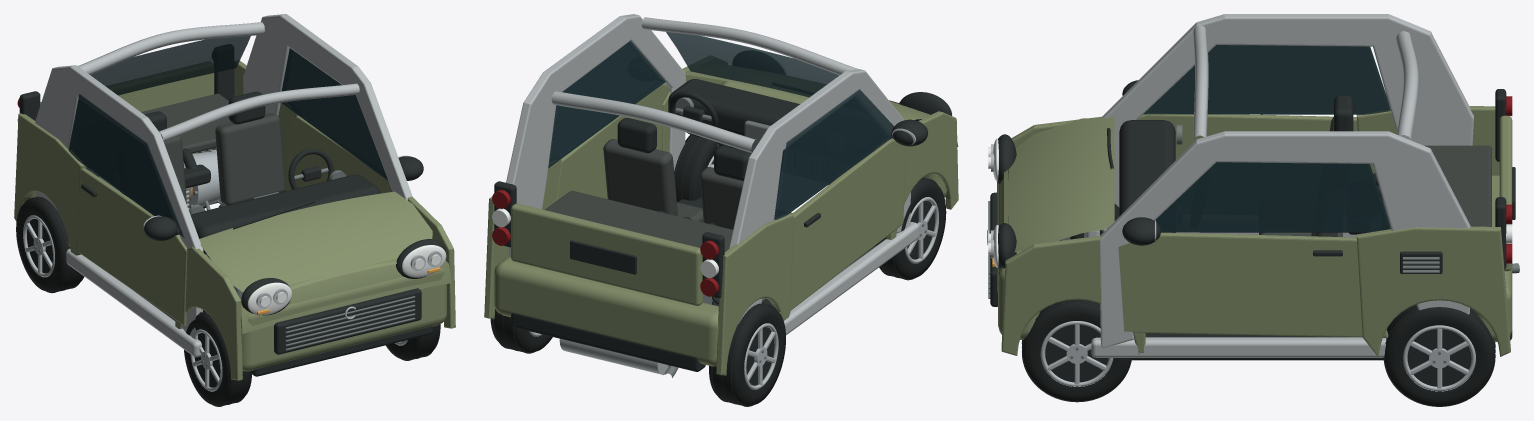
Rendered from educational-v1.glb.
3 renders of one model, left to right at view 1: azimuth 30°, elevation 25°; view 2: azimuth 150°, elevation 25°; view 3: azimuth 270°, elevation 25°, orthographic. The views are drawn at different scales.
Parts seen in each view (by area): view 1: service-panel--0, door-right--0, safety-cell--2, safety-cell--0, window-right--0, front-bumper--0, quarter-right--0, seat-left--1, rear-glass--0, window-left--0, dashboard--0, fender-right--0 (+31 smaller); view 2: rear-bumper--0, door-right--0, tailgate--0, safety-cell--2, safety-cell--0, window-right--0, quarter-right--0, window-left--0, windshield--0, floor--1, seat-left--1, wheel-rear-right--0 (+30 smaller); view 3: door-left--0, safety-cell--2, safety-cell--0, window-left--0, window-right--0, quarter-left--0, service-panel--0, fender-left--0, safety-cell--3, wheel-rear-left--0, wheel-front-left--0, dashboard--0 (+22 smaller).
Part boxes in pixels (<box>): service-panel--0: <box>199,191,432,292</box>; door-right--0: <box>68,168,187,325</box>; safety-cell--2: <box>243,14,412,200</box>; safety-cell--0: <box>35,65,203,339</box>; window-right--0: <box>68,94,184,237</box>; front-bumper--0: <box>228,267,446,371</box>; quarter-right--0: <box>14,113,85,255</box>; seat-left--1: <box>215,113,285,205</box>; rear-glass--0: <box>90,36,250,95</box>; window-left--0: <box>281,48,388,180</box>; dashboard--0: <box>190,174,380,254</box>; fender-right--0: <box>175,246,242,380</box>; rear-bumper--0: <box>494,256,718,366</box>; door-right--0: <box>779,139,905,315</box>; tailgate--0: <box>511,203,703,305</box>; safety-cell--2: <box>506,14,685,256</box>; safety-cell--0: <box>729,69,910,323</box>; window-right--0: <box>774,89,893,219</box>; quarter-right--0: <box>716,213,793,375</box>; window-left--0: <box>548,40,665,168</box>; windshield--0: <box>666,32,838,97</box>; floor--1: <box>545,190,732,251</box>; seat-left--1: <box>603,139,677,216</box>; wheel-rear-right--0: <box>709,303,785,406</box>; door-left--0: <box>1118,232,1388,337</box>; safety-cell--2: <box>1100,131,1470,348</box>; safety-cell--0: <box>1101,14,1473,207</box>; window-left--0: <box>1155,162,1390,232</box>; window-right--0: <box>1143,45,1390,114</box>; quarter-left--0: <box>1356,226,1510,356</box>; service-panel--0: <box>1004,117,1114,252</box>; fender-left--0: <box>1001,235,1145,355</box>; safety-cell--3: <box>1091,337,1386,357</box>; wheel-rear-left--0: <box>1384,304,1494,406</box>; wheel-front-left--0: <box>1022,300,1130,401</box>; dashboard--0: <box>1119,120,1175,232</box>.
Size of the model in its own units: 1.87 by 1.58 by 2.75.
